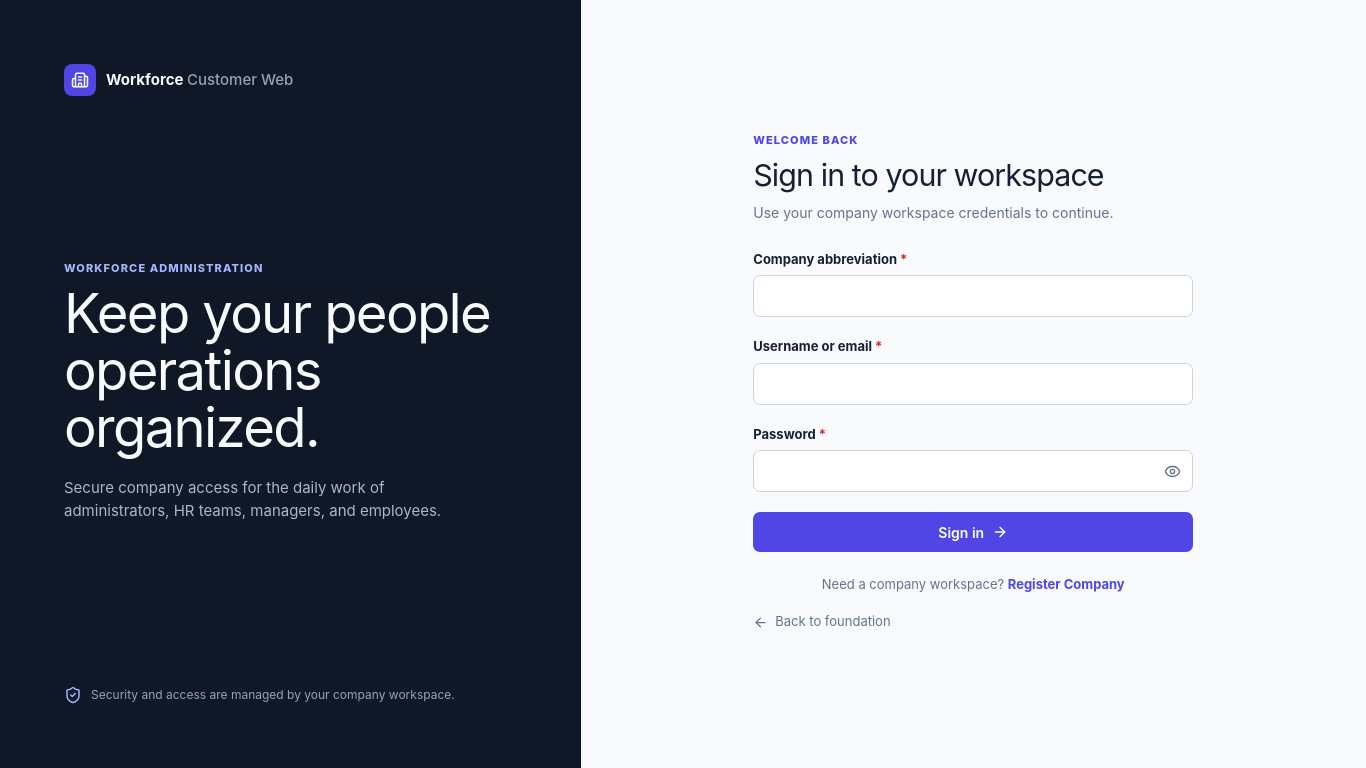
Test: authentication frontend › logs in with normalized abbreviation, loads current user, and restores the dashboard
The width and height of the screenshot is (1366, 768).
Expected: the heading "Sign in to your workspace" is shown, [753,158,1104,194]
Type "northstar" into the field labelled "Company abbreviation*" at (973, 296), box [753,275,1193,317]
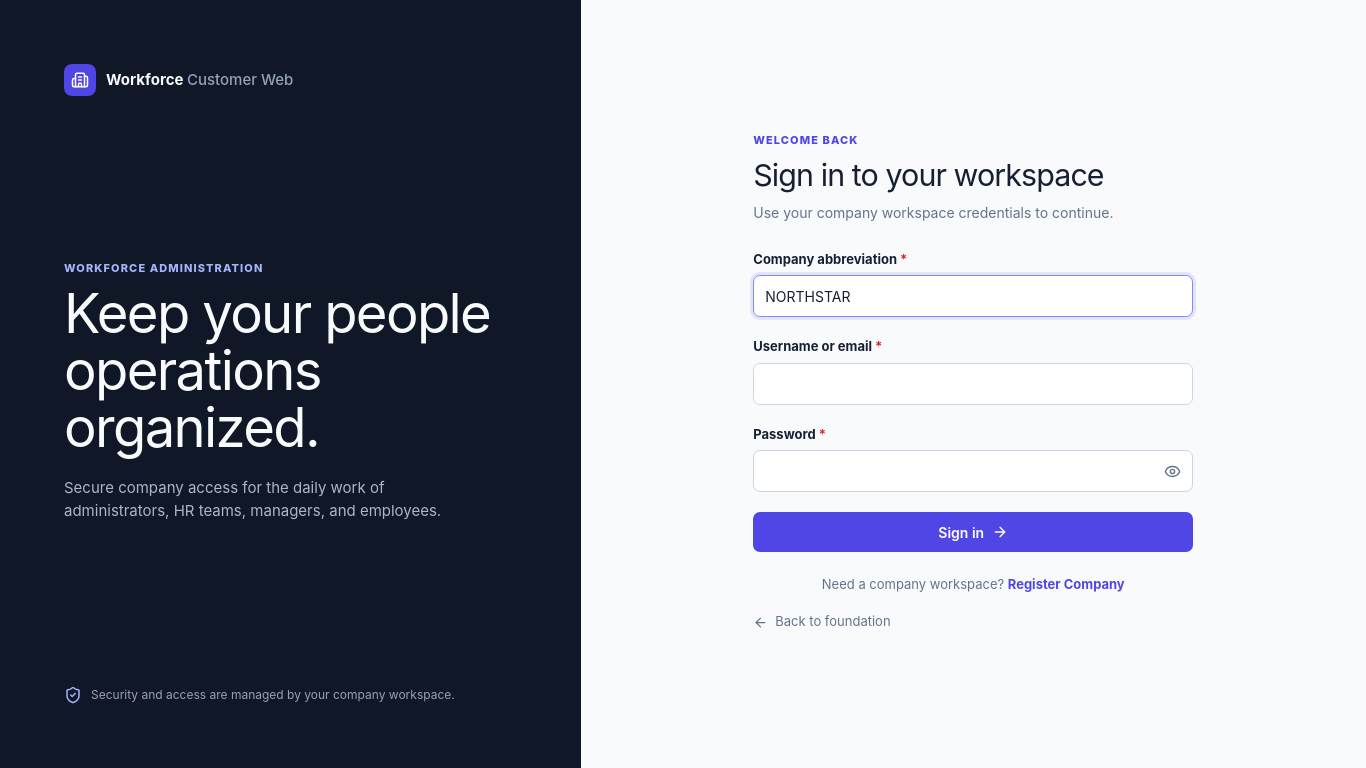
Type "admin" into the field labelled "Username or email*" at (973, 384), box [753,363,1193,405]
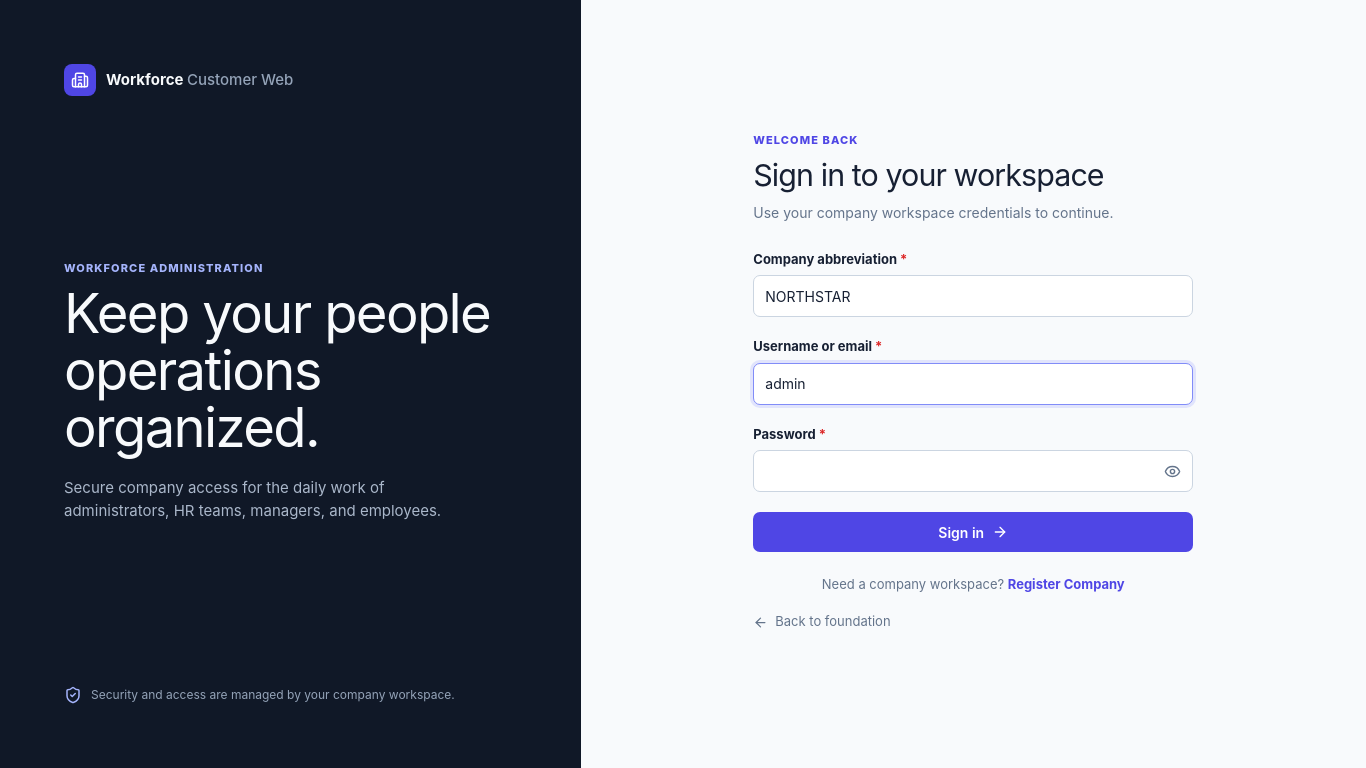
Type "StrongPassword1!" into the password field labelled "Password*" at (973, 471), box [753,450,1193,492]
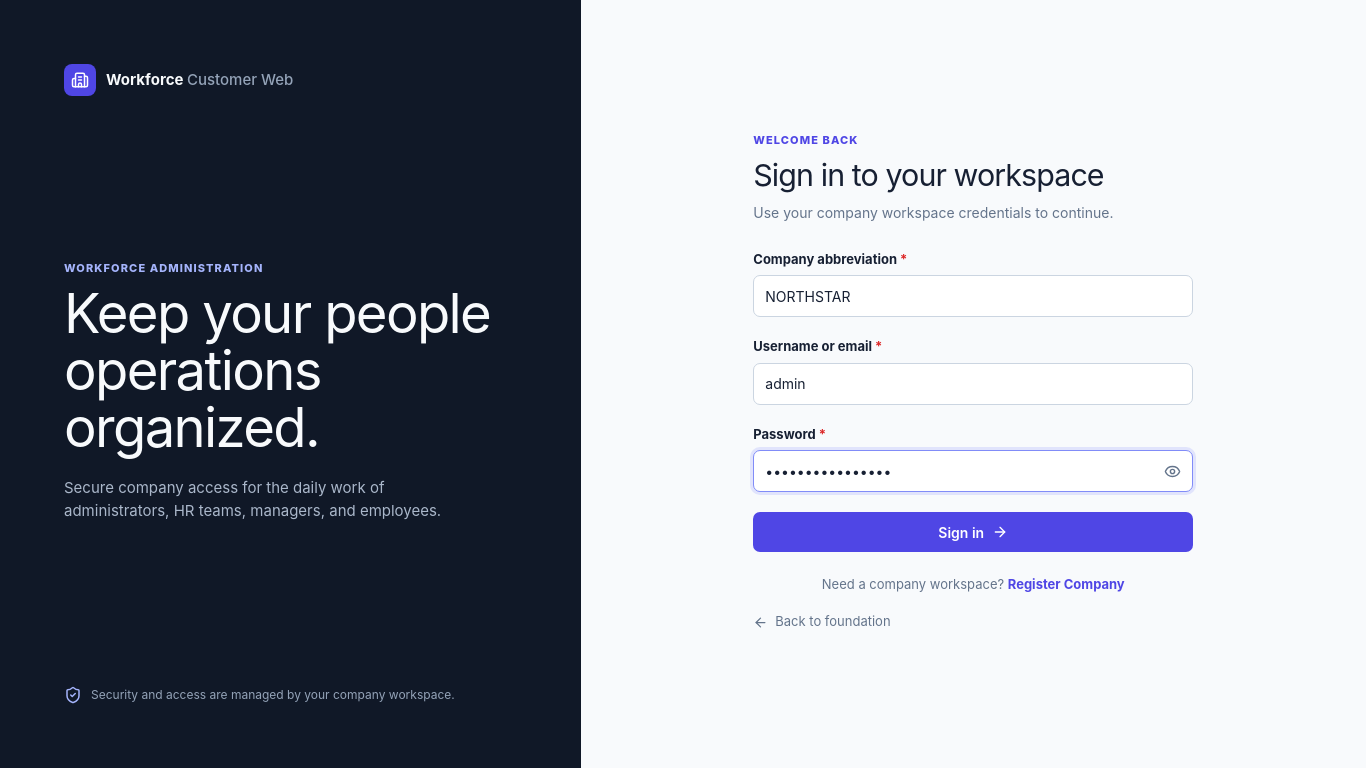
Click the button "Sign in" at (973, 532), box [753,512,1193,552]
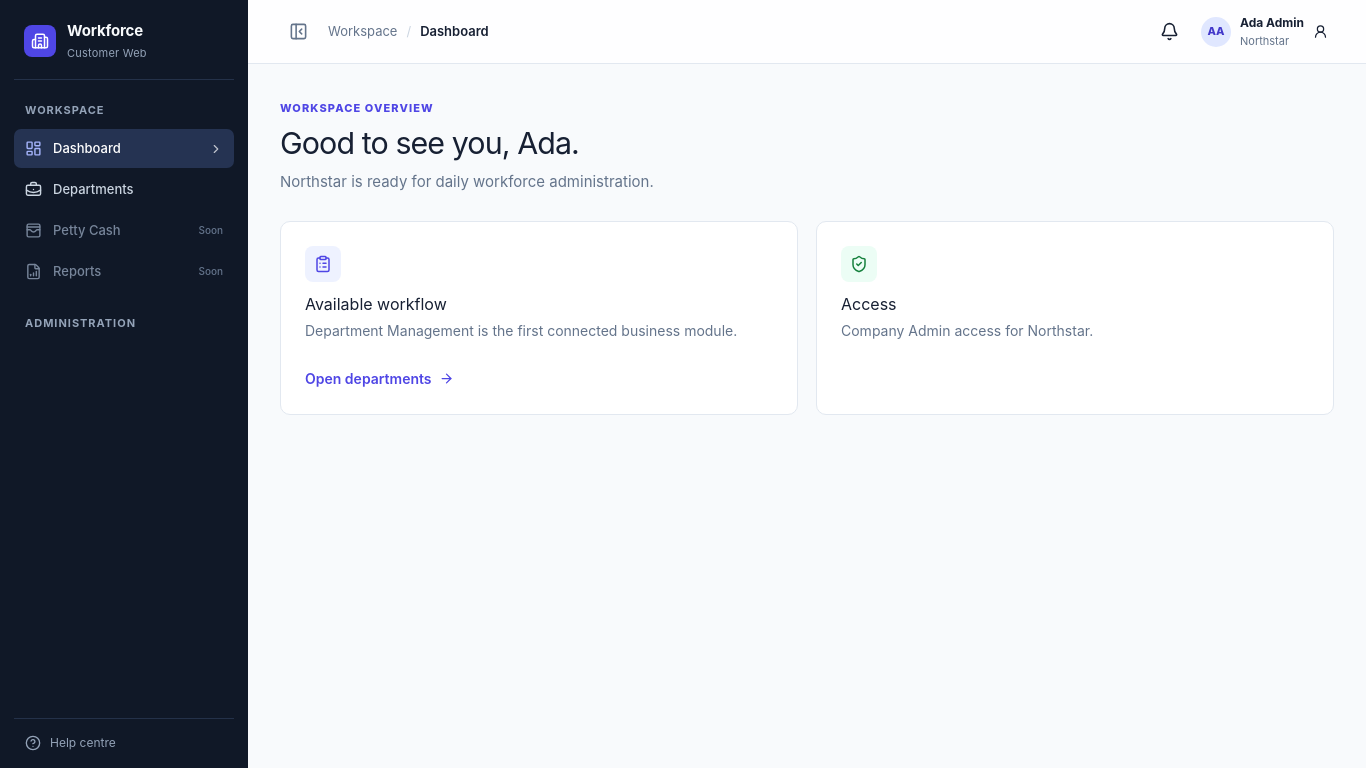
Now the heading "Good to see you, Ada." is shown, box [280,125,579,161]
Now the text "Northstar" is shown, box [1240,34,1289,48]
